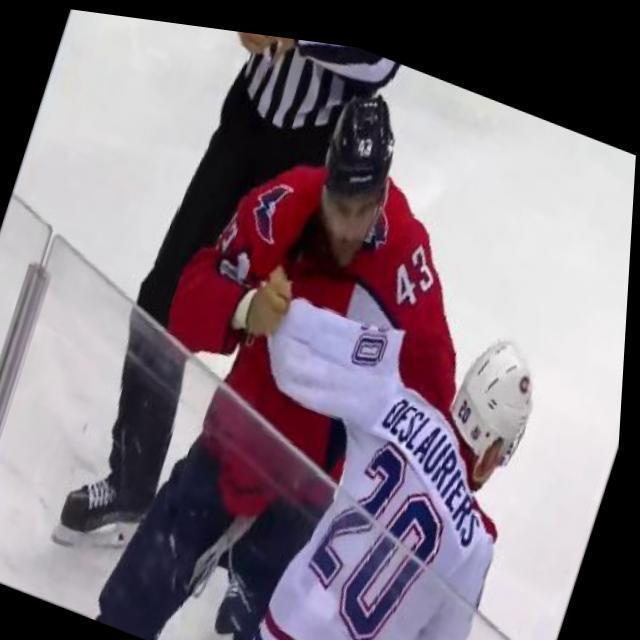fight: (84, 25, 628, 640)
